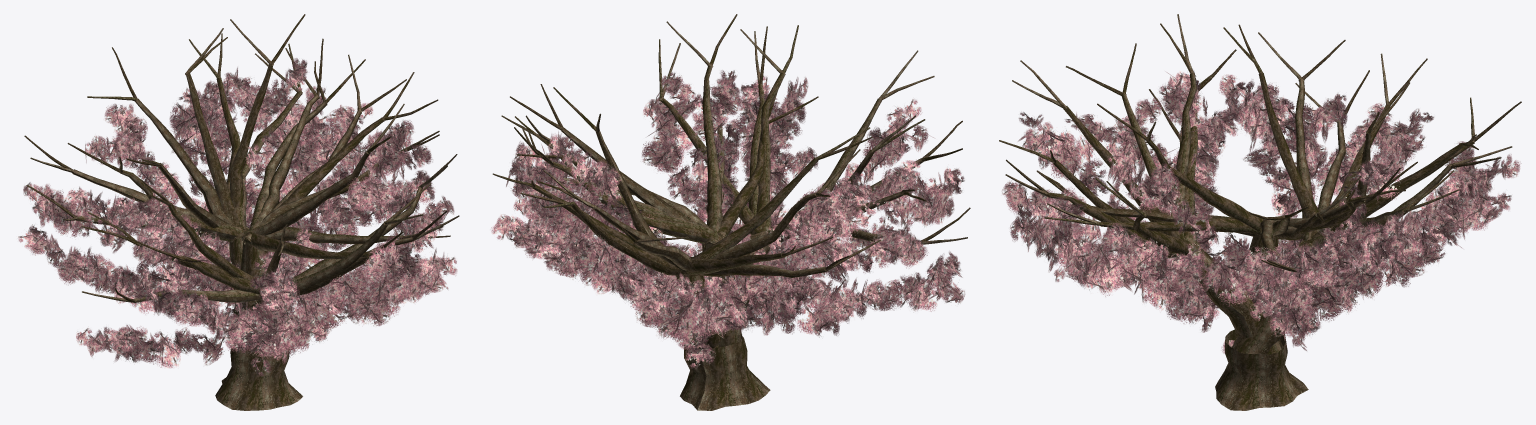
The model's file is blossom_2x_2.glb.
3 views of the same model, side by side, from view 1: azimuth 30°, elevation 25°; view 2: azimuth 150°, elevation 25°; view 3: azimuth 270°, elevation 25° (orthographic). The views are drawn at different scales.
Visible parts, largest first — view 1: blossom; view 2: blossom; view 3: blossom.
Part boxes in pixels (<box>): blossom: <box>18,14,459,410</box>; blossom: <box>491,14,970,410</box>; blossom: <box>999,14,1521,410</box>.
Bounding box in the file's own units: 37.08 × 28.18 × 39.82.
2 materials, 2 textured.
